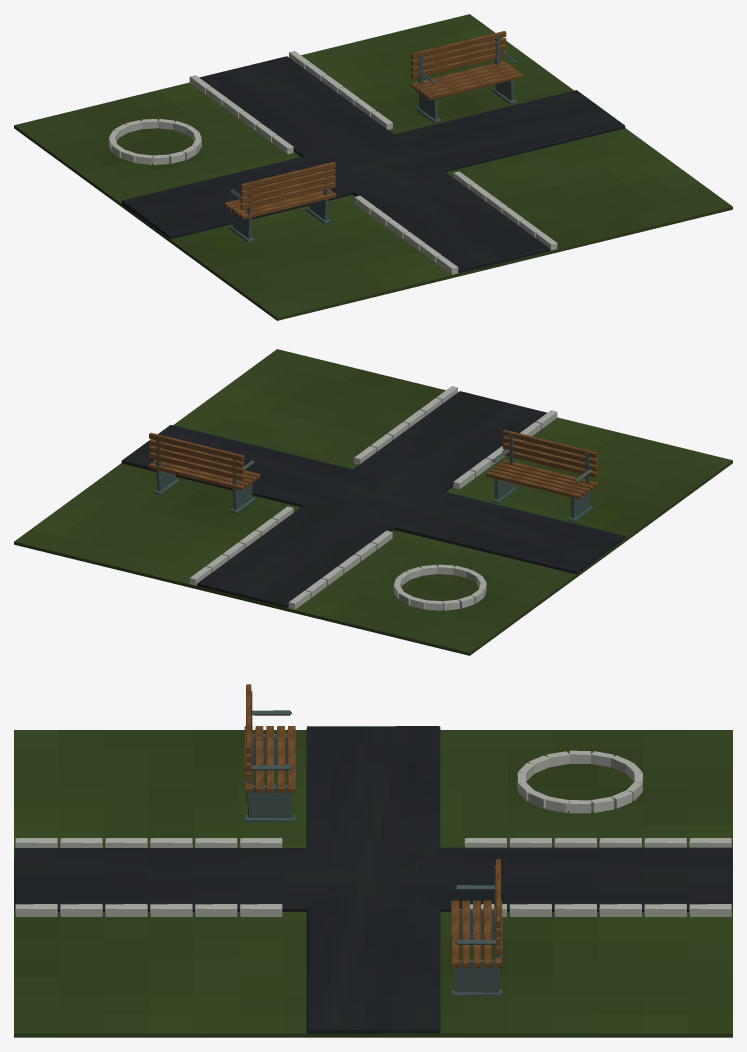
3 renders of one model, top to bottom at view 1: azimuth 30°, elevation 25°; view 2: azimuth 150°, elevation 25°; view 3: azimuth 270°, elevation 25°, orthographic. The views are drawn at different scales.
Visible parts, largest first — view 1: static_park_planted_ground, static_park_main_walk, static_park_cross_walk, static_bench_back_slat_003, static_bench_back_slat_002, static_bench_back_slat, static_bench_back_slat_001, static_bench_back_slat_007, static_bench_seat_slat, static_bench_seat_slat_009, static_bench_back_slat_006, static_bench_back_slat_005 (+1 smaller); view 2: static_park_planted_ground, static_park_main_walk, static_park_cross_walk, static_bench_back_slat_007, static_bench_back_slat_006, static_bench_back_slat_004, static_bench_back_slat_005, static_bench_back_slat_003, static_bench_seat_slat_004, static_bench_seat_slat_005, static_bench_back_slat_002, static_bench_back_slat_001 (+1 smaller); view 3: static_park_planted_ground, static_park_cross_walk, static_park_main_walk, static_bench_cast_iron_leg_002, static_bench_cast_iron_leg_001, static_bench_seat_slat_009, static_bench_seat_slat_004.
Part boxes in pixels (x1,y1,x2,y2): static_park_planted_ground: (14,14,732,320); static_park_main_walk: (199,56,549,272); static_park_cross_walk: (121,90,625,239); static_bench_back_slat_003: (240,161,335,190); static_bench_back_slat_002: (240,168,335,196); static_bench_back_slat: (240,181,335,209); static_bench_back_slat_001: (240,175,335,203); static_bench_back_slat_007: (411,31,506,59); static_bench_seat_slat: (240,192,336,219); static_bench_seat_slat_009: (426,72,522,100); static_bench_back_slat_006: (411,37,506,65); static_bench_back_slat_005: (411,44,506,72); static_park_planted_ground: (14,349,732,655); static_park_main_walk: (197,391,546,607); static_park_cross_walk: (121,425,625,574); static_bench_back_slat_007: (149,432,244,461); static_bench_back_slat_006: (149,439,244,467); static_bench_back_slat_004: (149,452,244,480); static_bench_back_slat_005: (149,446,244,474); static_bench_back_slat_003: (502,429,597,457); static_bench_seat_slat_004: (486,471,582,499); static_bench_seat_slat_005: (148,463,244,490); static_bench_back_slat_002: (502,436,597,464); static_bench_back_slat_001: (502,443,597,471); static_park_planted_ground: (14,730,732,1037); static_park_cross_walk: (306,726,440,1033); static_park_main_walk: (14,847,732,911); static_bench_cast_iron_leg_002: (454,959,498,992); static_bench_cast_iron_leg_001: (248,784,292,817); static_bench_seat_slat_009: (451,900,459,967); static_bench_seat_slat_004: (287,726,295,792).
Bounding box in the file's own units: 8 × 1.02 × 8.
5 materials, 3 textured.
